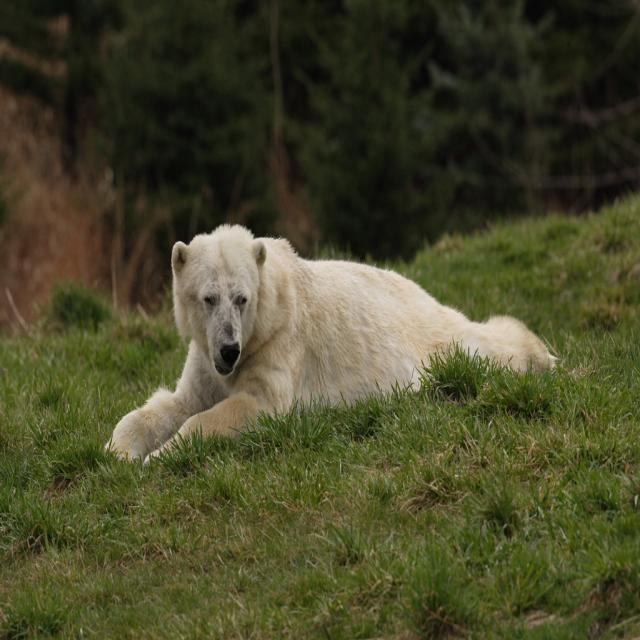bear: (84, 170, 558, 544)
